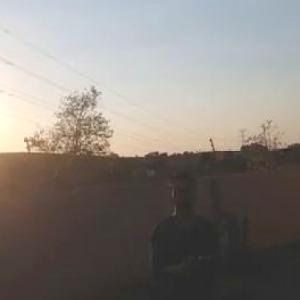follow: (142, 162, 227, 299)
